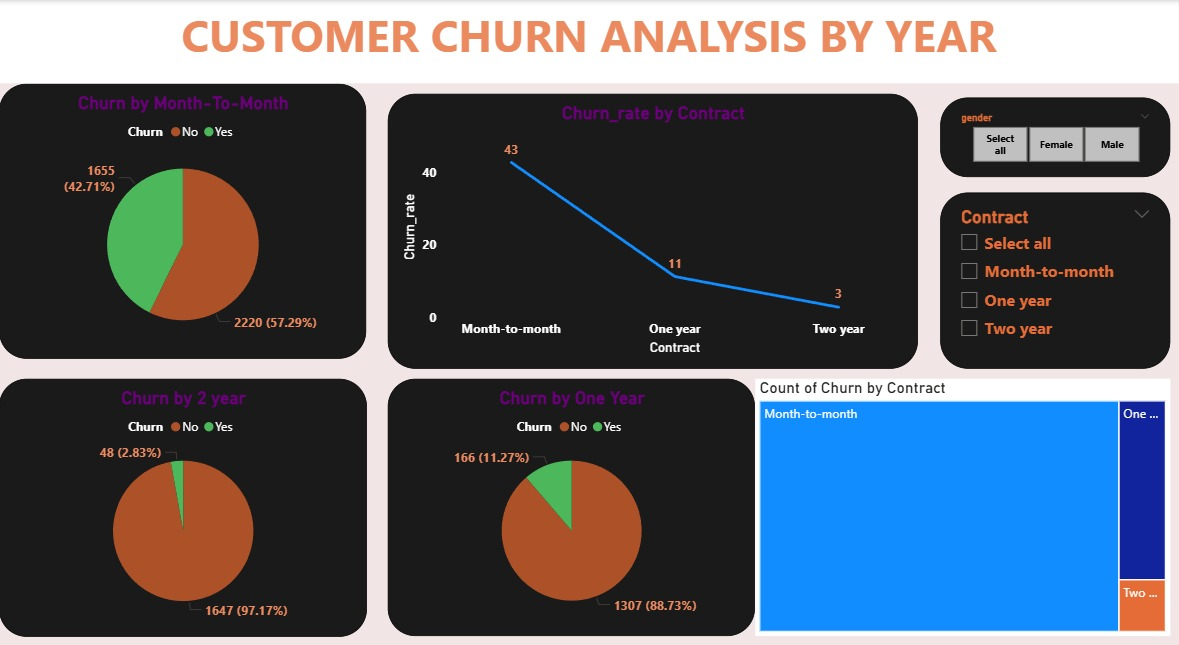

The dashboard page shown, as its layout file describes it:
{"tool":"powerbi","page":{"name":"Page 3","canvas":[1280,720],"ordinal":2},"visuals":[{"type":"pieChart","title":"Churn by Month-To-Month","fields":{"Y":["CountNonNull(Cutomer_churn_analysis.Contract)"],"Category":["Cutomer_churn_analysis.Churn"]},"box":[0,90.9,398.7,298.4],"z":0},{"type":"pieChart","title":"Churn by One Year","fields":{"Y":["CountNonNull(Cutomer_churn_analysis.Contract)"],"Category":["Cutomer_churn_analysis.Churn"]},"box":[421.8,410.9,398.7,279.4],"z":1000},{"type":"pieChart","title":"Churn by 2 year","fields":{"Y":["CountNonNull(Cutomer_churn_analysis.Contract)"],"Category":["Cutomer_churn_analysis.Churn"]},"box":[0,410.3,399.3,279.9],"z":2000},{"type":"treemap","fields":{"Details":["Cutomer_churn_analysis.Contract"],"Values":["CountNonNull(Cutomer_churn_analysis.Churn)"]},"box":[820.5,410.9,450.3,279.4],"z":3000},{"type":"slicer","fields":{"Values":["Cutomer_churn_analysis.Contract"]},"box":[1021.2,208.9,249.5,191.2],"z":4000},{"type":"textbox","box":[0,0,1280.3,90.6],"z":5000},{"type":"slicer","fields":{"Values":["Cutomer_churn_analysis.gender"]},"box":[1021.2,105.8,249.5,86.8],"z":6000},{"type":"lineChart","fields":{"Y":["Cutomer_churn_analysis.Churn_rate"],"Category":["Cutomer_churn_analysis.Contract"]},"box":[421.8,101.7,575,298.4],"z":7000}]}

Visuals, with their boxes in screenshot pixels (x1, y1, x2, y2), scaled from the page's 1280x720 canvas onto the 1179x645 screenshot:
"Churn by Month-To-Month" pieChart: bbox(0, 81, 367, 349)
"Churn by One Year" pieChart: bbox(389, 368, 756, 618)
"Churn by 2 year" pieChart: bbox(0, 368, 368, 618)
treemap - Cutomer_churn_analysis.Contract x CountNonNull(Cutomer_churn_analysis.Churn): bbox(756, 368, 1171, 618)
slicer - Cutomer_churn_analysis.Contract: bbox(941, 187, 1170, 358)
textbox: bbox(0, 0, 1178, 81)
slicer - Cutomer_churn_analysis.gender: bbox(941, 95, 1170, 173)
lineChart - Cutomer_churn_analysis.Churn_rate x Cutomer_churn_analysis.Contract: bbox(389, 91, 918, 358)
